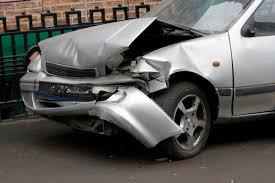bonnet-dent: (42, 15, 167, 63)
fender-dent: (168, 41, 230, 83)
front-bumper-dent: (21, 78, 154, 130)
